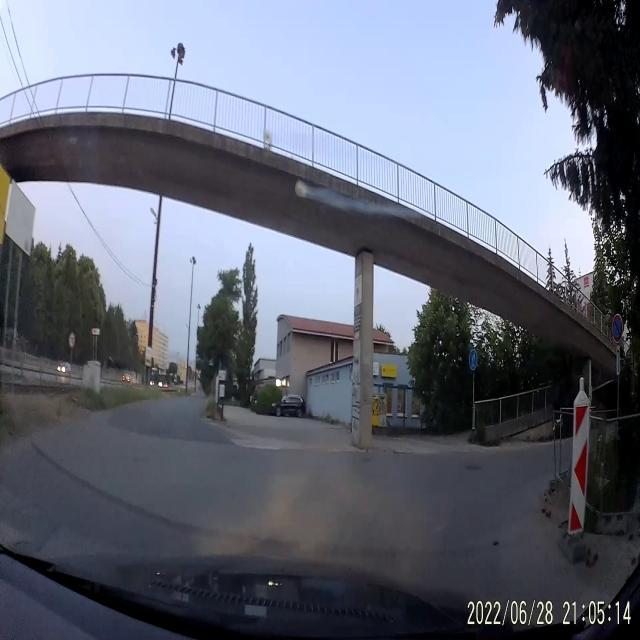Pothole: (461, 458, 487, 475)
